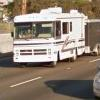Bus: (8, 10, 88, 68)
